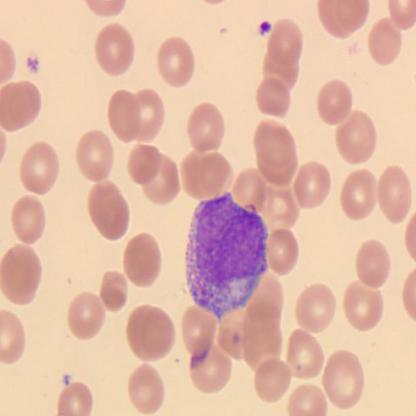Promyelocyte: (183, 192, 268, 322)
